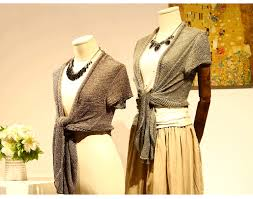person-like: (122, 4, 215, 197), (47, 32, 136, 195)
